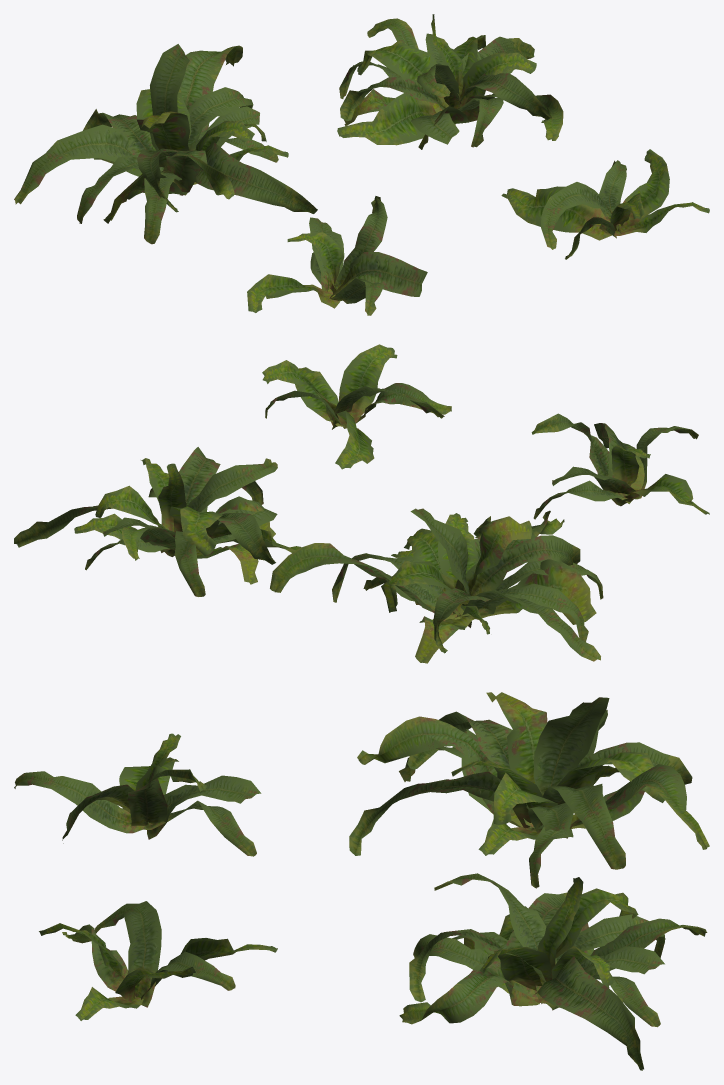
Rendered from fern_02.glb.
The picture shows the model from 3 angles, top to bottom: view 1: azimuth 30°, elevation 25°; view 2: azimuth 150°, elevation 25°; view 3: azimuth 270°, elevation 25°; orthographic projection. The views are drawn at different scales.
Visible parts, largest first — view 1: fern_02_b; view 2: fern_02_b; view 3: fern_02_b.
Part boxes in pixels (left/top/right/bottom): fern_02_b: left=14, top=14, right=709, bottom=315; fern_02_b: left=14, top=344, right=709, bottom=663; fern_02_b: left=14, top=692, right=709, bottom=1070.
Bounding box in the file's own units: 1.97 × 0.4277 × 1.72.
1 material, 1 textured.
